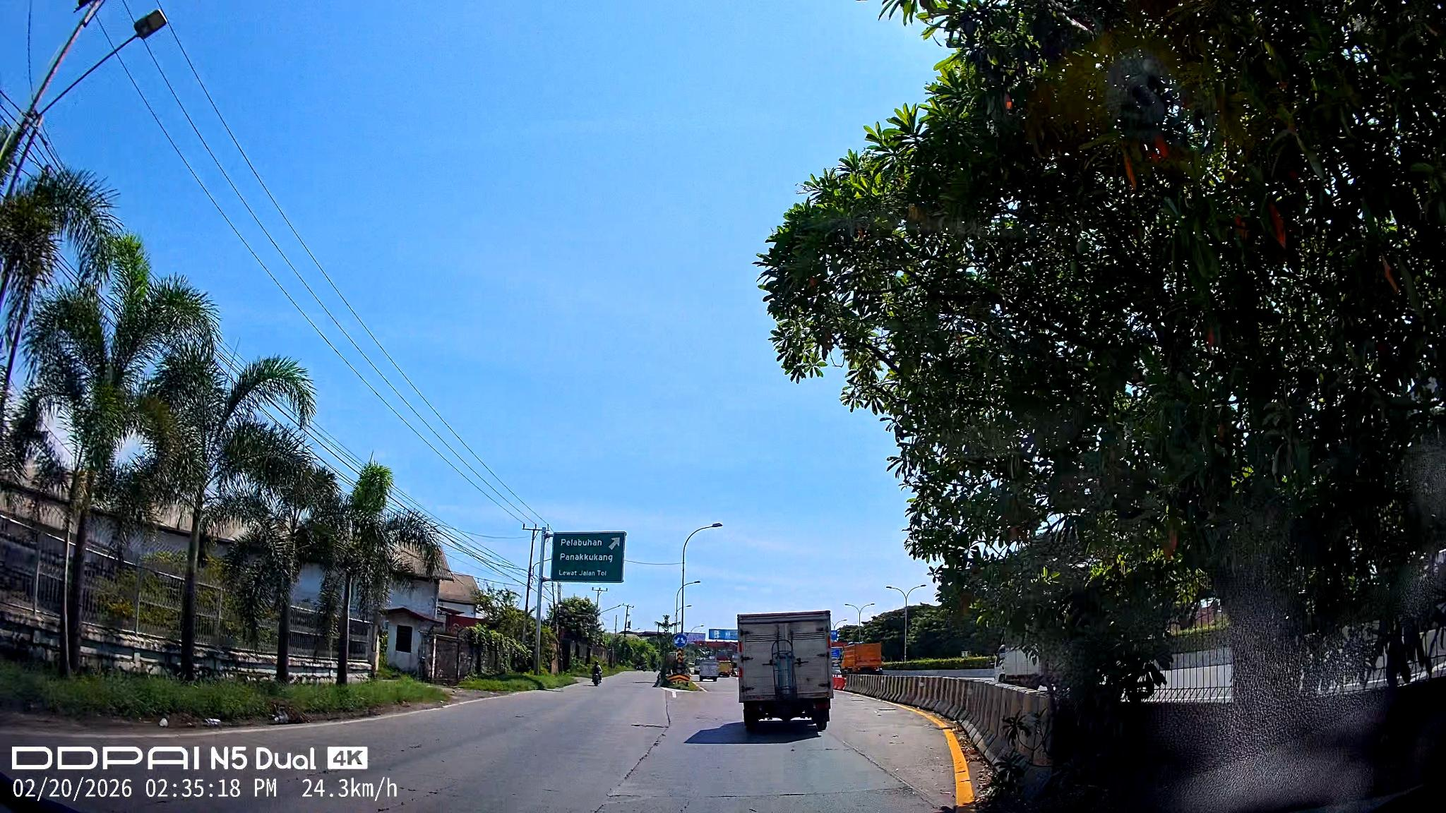rambu_teks: (550, 531, 627, 583)
